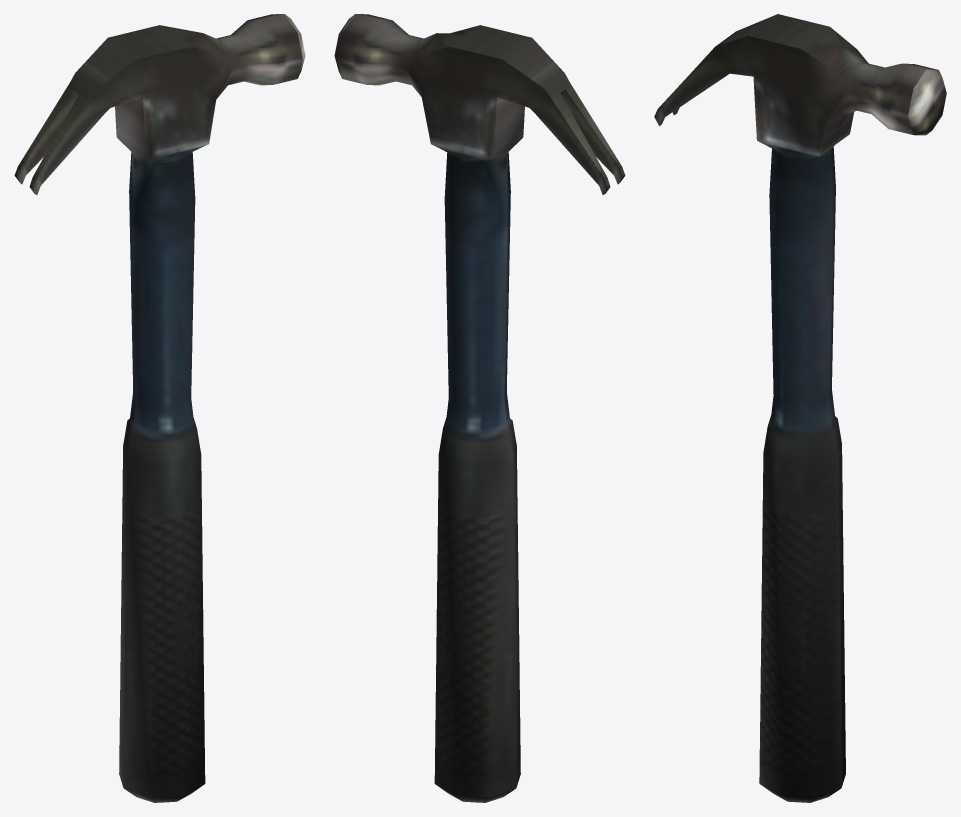
Rendered from hammer.fbx.
3 renders of one model, left to right at view 1: azimuth 30°, elevation 25°; view 2: azimuth 150°, elevation 25°; view 3: azimuth 330°, elevation 25°, orthographic.
Parts seen in each view (by area): view 1: hammer; view 2: hammer; view 3: hammer.
Part boxes in pixels (<box>): hammer: <box>14,14,305,802</box>; hammer: <box>334,14,625,802</box>; hammer: <box>654,14,946,802</box>.
Bounding box in the file's own units: 0.1571 × 0.4213 × 0.0453.
